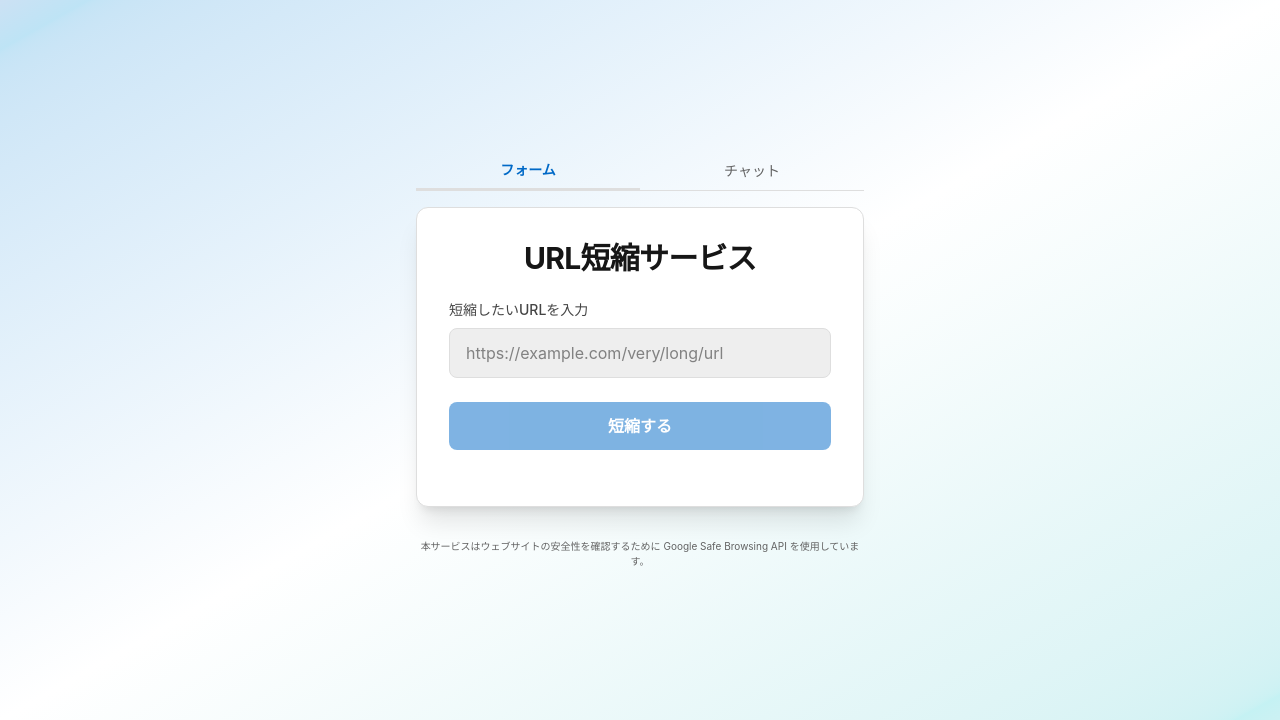
Test: Home Page › handles copy button click
In the field labelled "短縮したいURLを入力": (640, 352) [449, 328, 831, 378], type "https://example.com/copy"
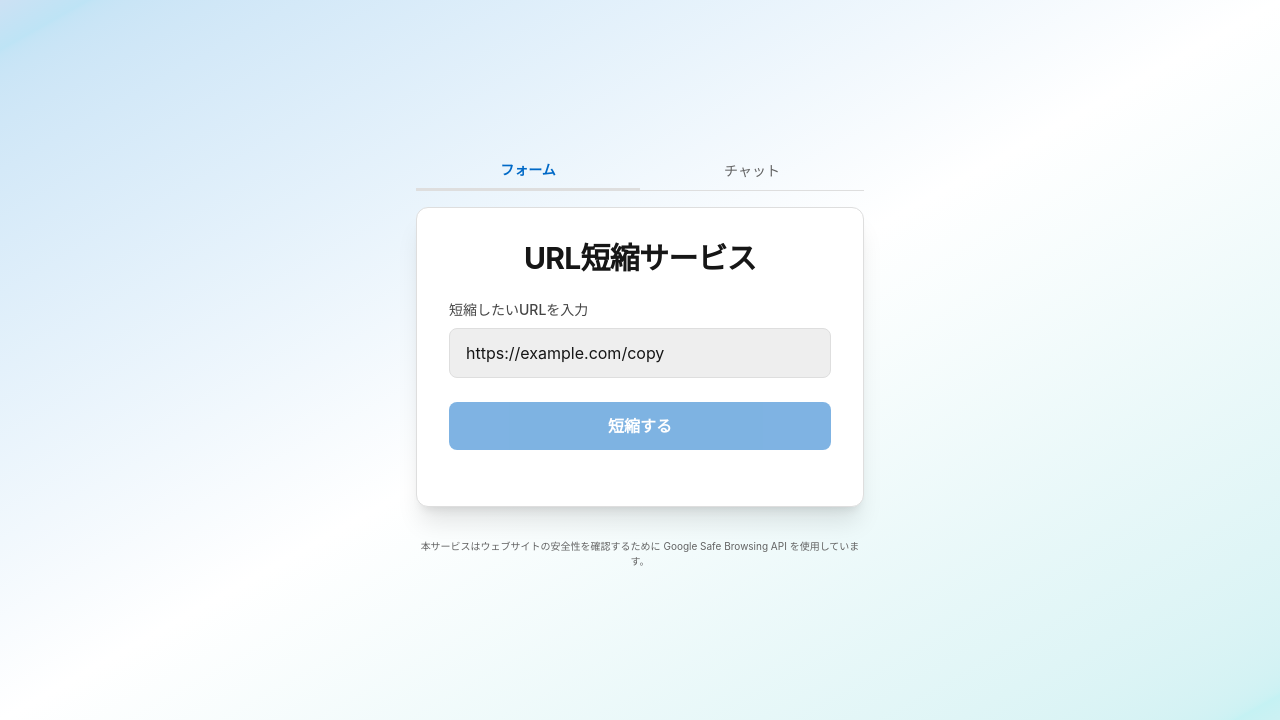
Submit the form labelled "短縮したいURLを入力", box [449, 300, 831, 474]
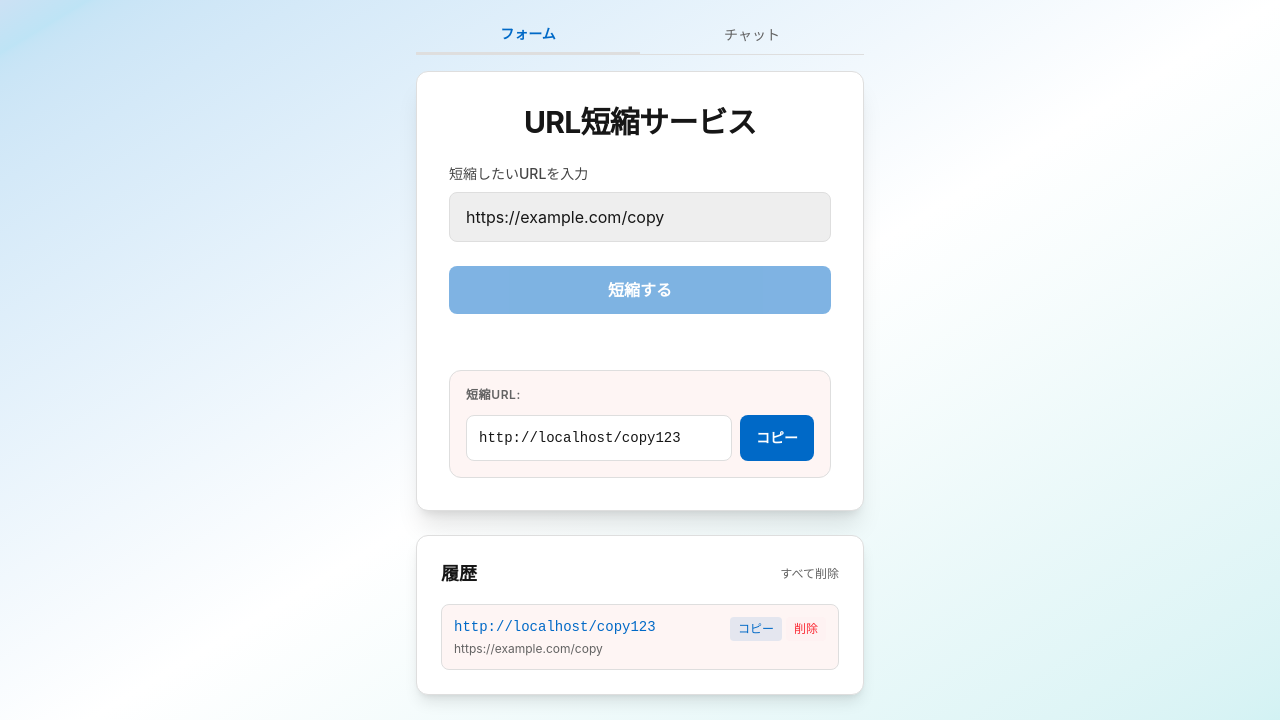
Note: メインカードのコピーボタンをクリック
Click the button "コピー" below "短縮URL:": click(777, 438) [740, 415, 814, 461]
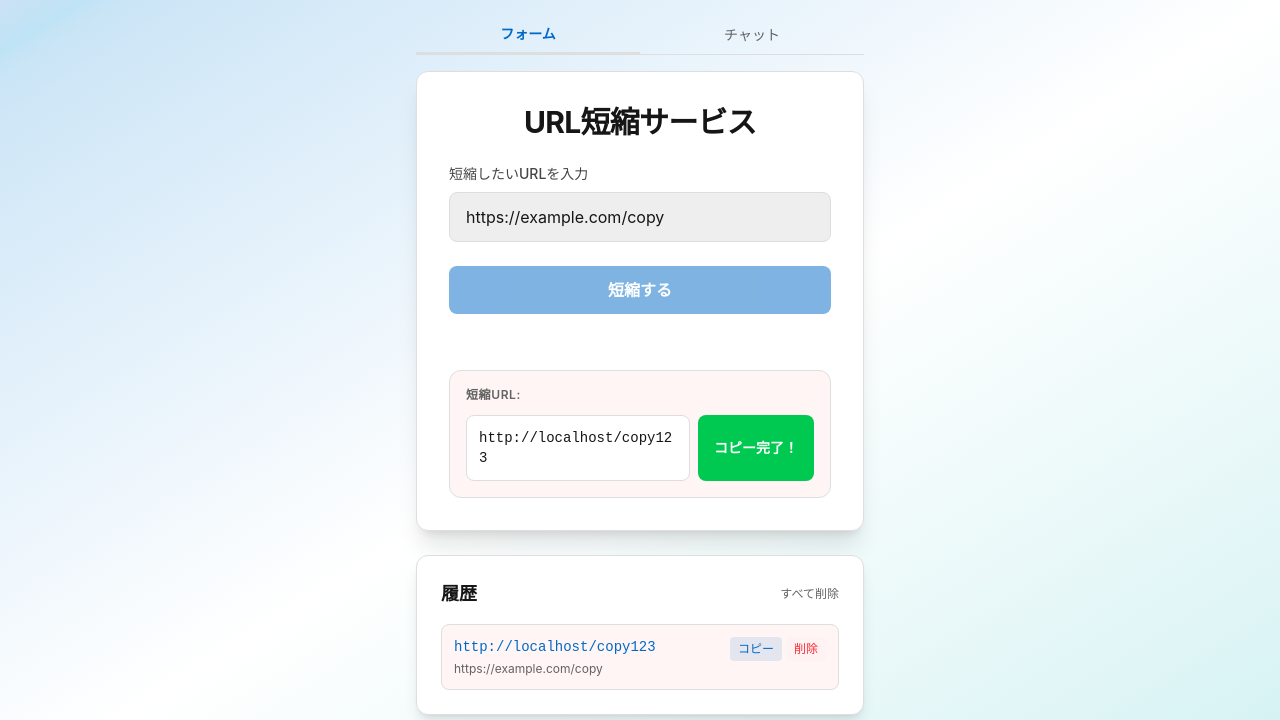
expect the button "コピー完了！" is shown: met, box [698, 415, 814, 481]
